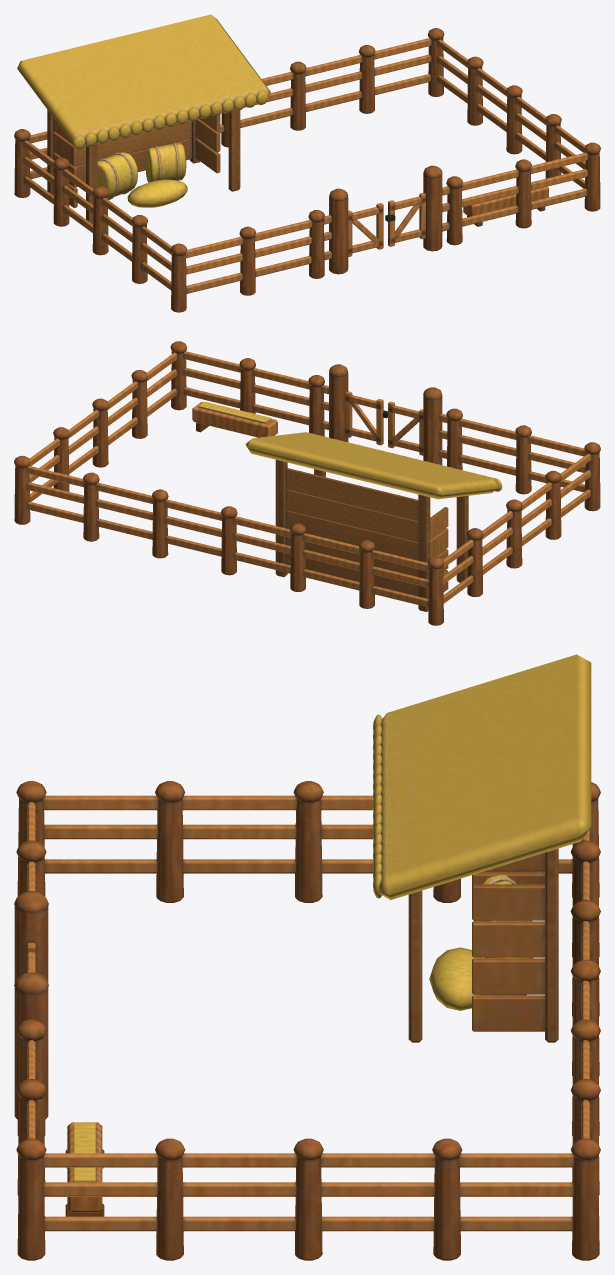
The model's file is watusi_ranch.glb.
The picture shows the model from 3 angles, top to bottom: view 1: azimuth 30°, elevation 25°; view 2: azimuth 150°, elevation 25°; view 3: azimuth 270°, elevation 25°; orthographic projection. The views are drawn at different scales.
Parts seen in each view (by area): view 1: watusi_ranch, gate1, gate0; view 2: watusi_ranch, gate1, gate0; view 3: watusi_ranch.
Part boxes in pixels (x1,y1,x2,y2): watusi_ranch: (14, 14, 600, 312); gate1: (385, 192, 425, 246); gate0: (348, 203, 383, 256); watusi_ranch: (14, 341, 600, 625); gate1: (345, 391, 387, 445); gate0: (388, 401, 423, 455); watusi_ranch: (14, 654, 600, 1260).
Bounding box in the file's own units: 3 × 0.9714 × 2.01.
Materials: 1 (1 with a texture image).
